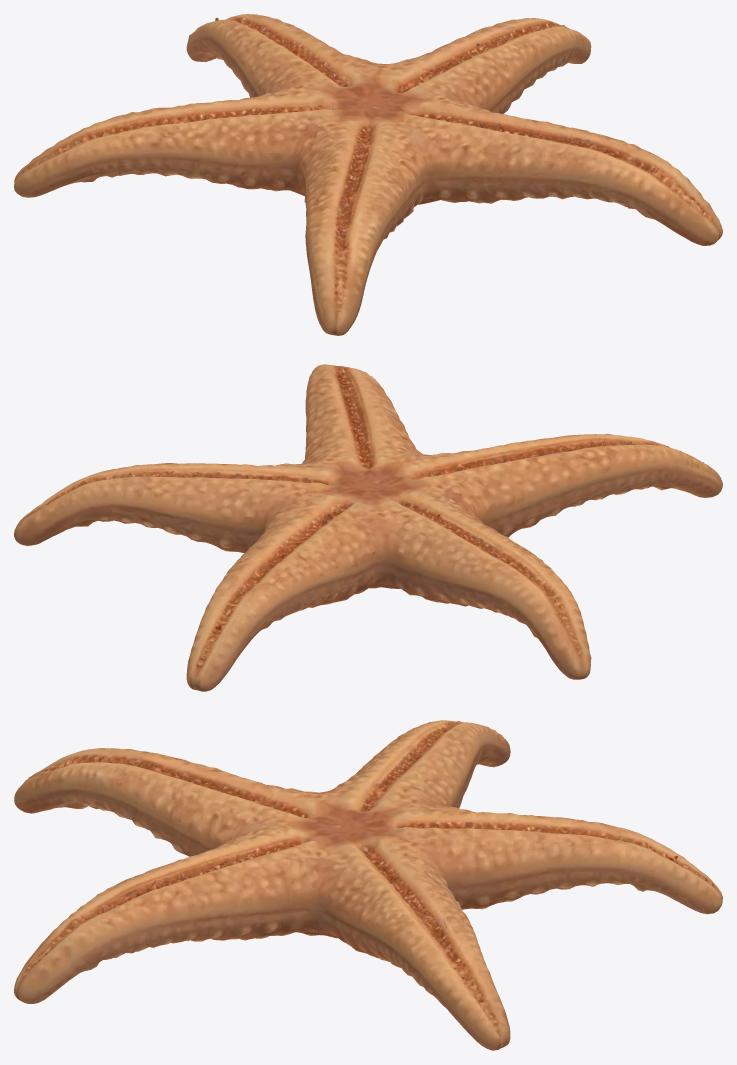
Rendered from starfish.glb.
3 renders of one model, top to bottom at view 1: azimuth 30°, elevation 25°; view 2: azimuth 150°, elevation 25°; view 3: azimuth 270°, elevation 25°, orthographic. The views are drawn at different scales.
Visible parts, largest first — view 1: Mesh0; view 2: Mesh0; view 3: Mesh0.
Part boxes in pixels (<box>): Mesh0: <box>14,14,722,335</box>; Mesh0: <box>14,364,722,691</box>; Mesh0: <box>14,720,722,1050</box>.
Size of the model in its own units: 1.89 by 0.2725 by 1.91.
1 material, 1 textured.
